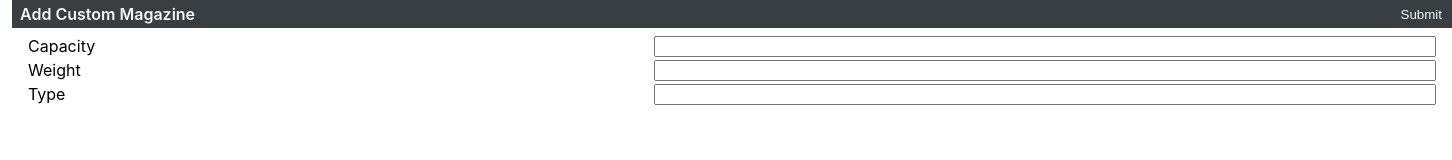
Test: The Firearm Modification Form › magazine form › should show error msg if the mag type is less than two characters
The width and height of the screenshot is (1452, 160).
Type "18" into the field in the row of "Capacity" at (1045, 46), box [654,36,1436,57]
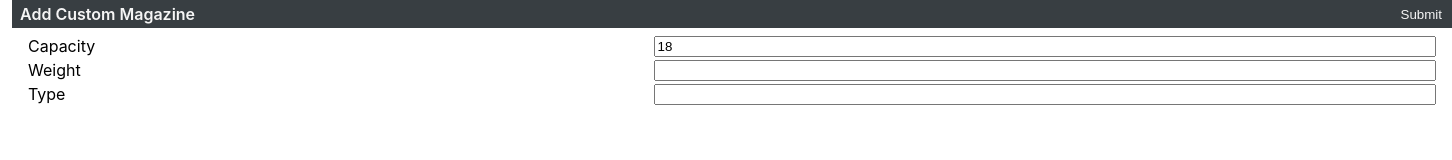
Type ".65" into the field in the row of "Weight" at (1045, 71), box [654,60,1436,81]
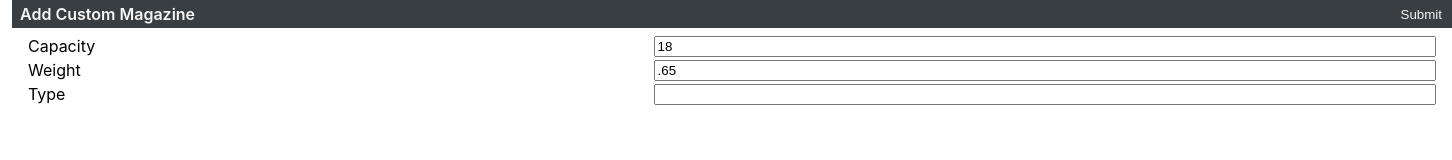
Type "M" into the field in the row of "Type" at (1045, 95), box [654,84,1436,105]
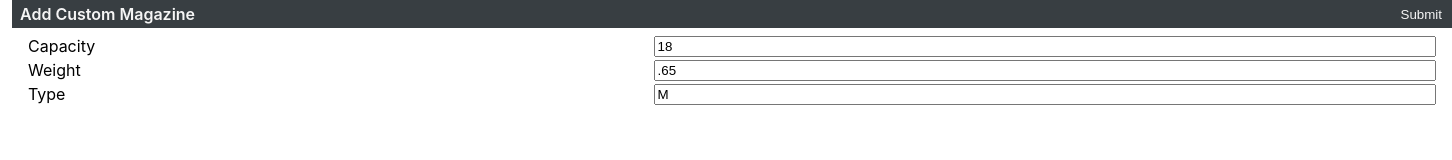
Click the button "Submit" at (1421, 14), box [1394,4,1448,24]
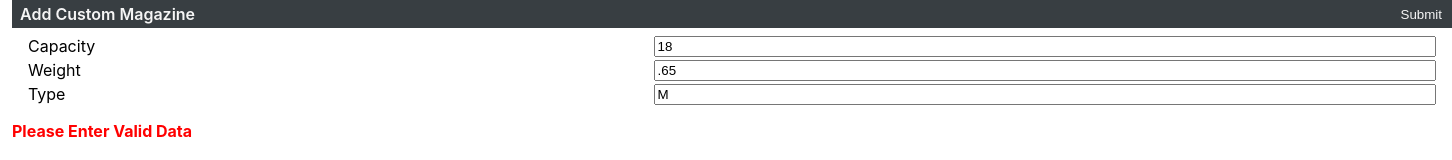
Expected: the text "Please Enter Valid Data" is shown, [12,121,192,141]
